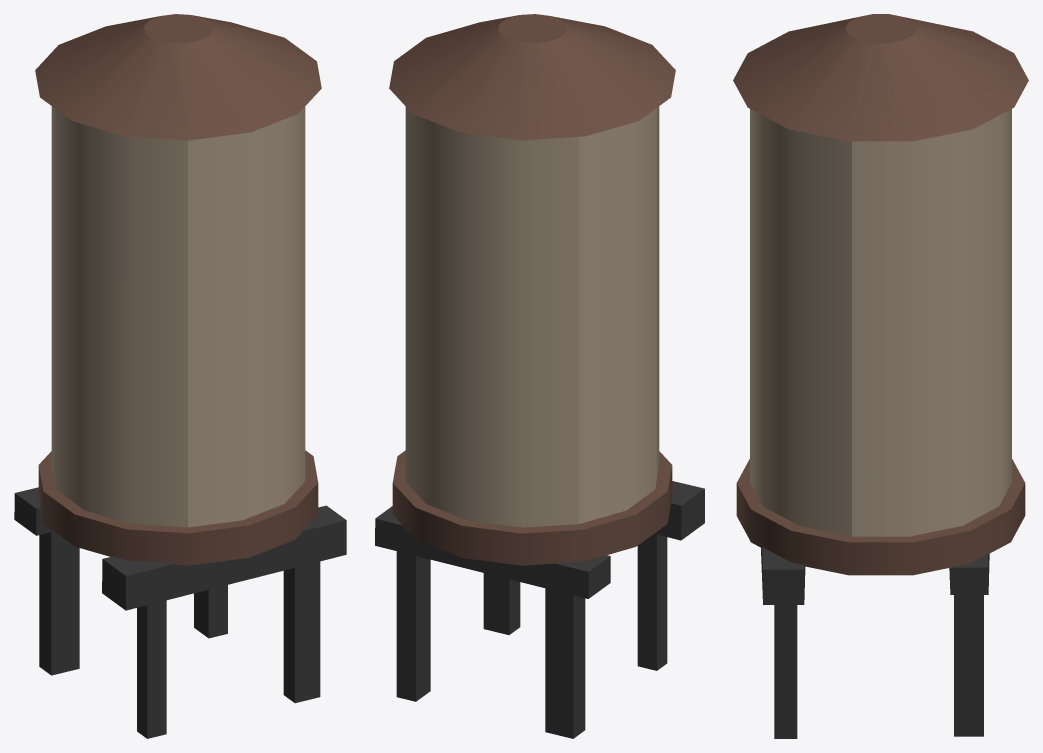
Rendered from desert_watertank2.fbx.
The picture shows the model from 3 angles, left to right: view 1: azimuth 30°, elevation 25°; view 2: azimuth 150°, elevation 25°; view 3: azimuth 270°, elevation 25°; orthographic projection. The views are drawn at different scales.
Parts seen in each view (by area): view 1: desert_watertank2; view 2: desert_watertank2; view 3: desert_watertank2.
Boxes of the visible parts, x1=… form: desert_watertank2: x1=14, y1=14, x2=346, y2=738; desert_watertank2: x1=375, y1=14, x2=704, y2=738; desert_watertank2: x1=733, y1=14, x2=1028, y2=738.
Bounding box in the file's own units: 203 × 516 × 208.
